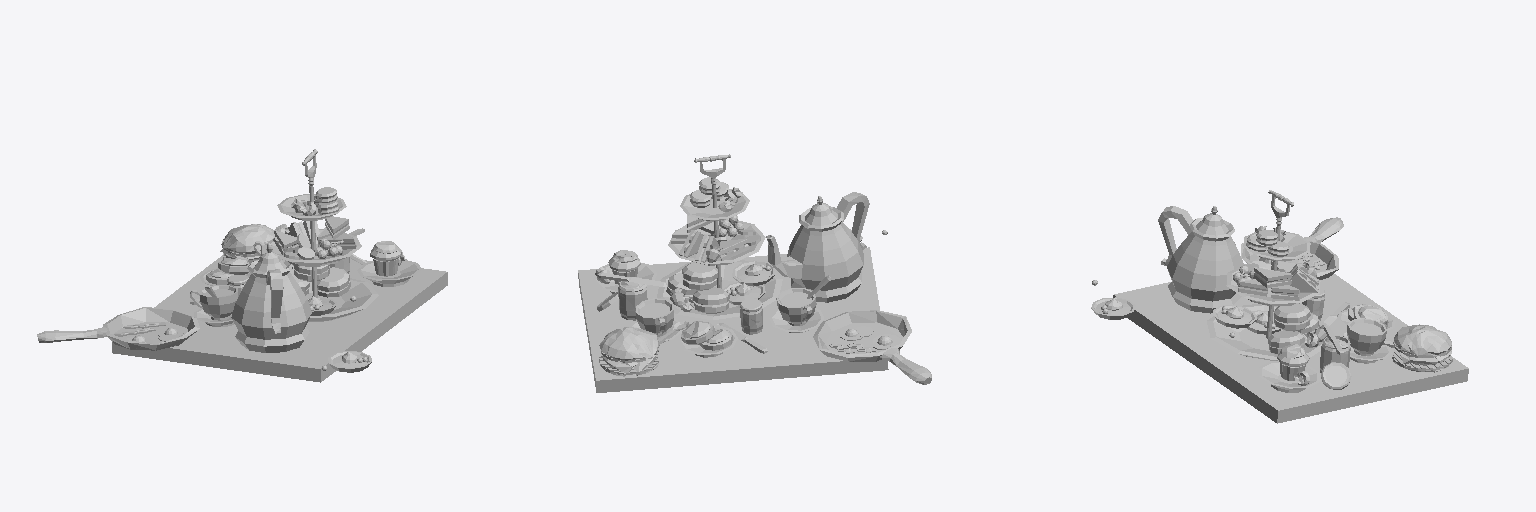
File: buzmean01.obj
The picture shows the model from 3 angles: view 1: azimuth 30°, elevation 25°; view 2: azimuth 150°, elevation 25°; view 3: azimuth 270°, elevation 25°; orthographic projection.
Visible parts, largest first — view 1: group[number redacted]; view 2: group[number redacted]; view 3: group[number redacted].
Boxes of the visible parts, x1,y1,x2,y2 form: group[number redacted]: [37, 149, 447, 382]; group[number redacted]: [578, 154, 931, 392]; group[number redacted]: [1091, 190, 1468, 423].
Size of the model in its own units: 0.212 by 0.0929 by 0.1818.